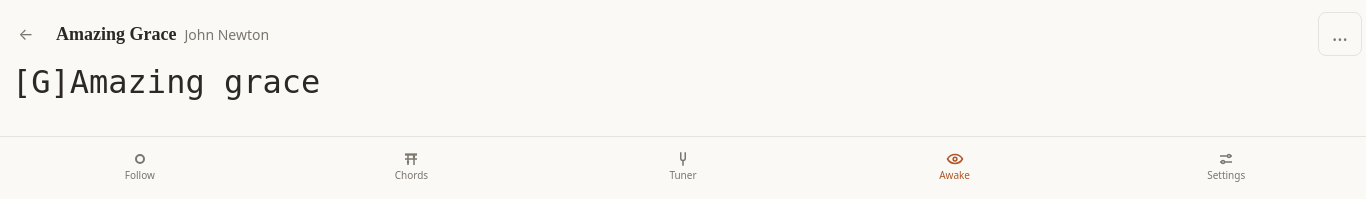
Test: PlayPage Follow debug switch › is not in the menu for an account without Follow capture
The width and height of the screenshot is (1366, 199).
What coordinates should you click on to do the following:
click the button named "Chart actions"
I would click on:
 (1340, 34)
Its box is [1318,12,1362,56].
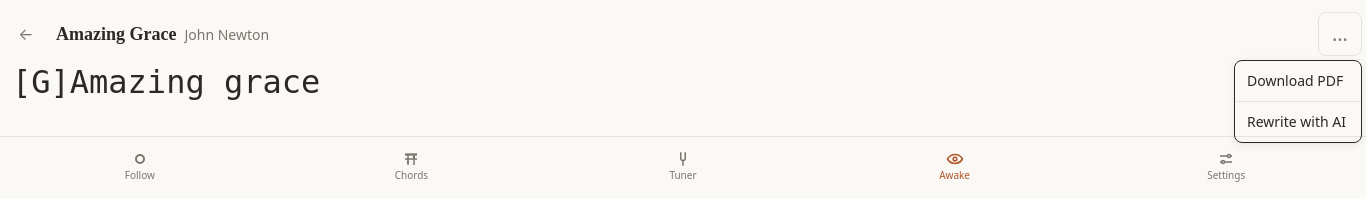
Now the menu is shown, box [1234,60,1362,143]
Now the menu item "Download PDF" is shown, box [1247,71,1343,90]
